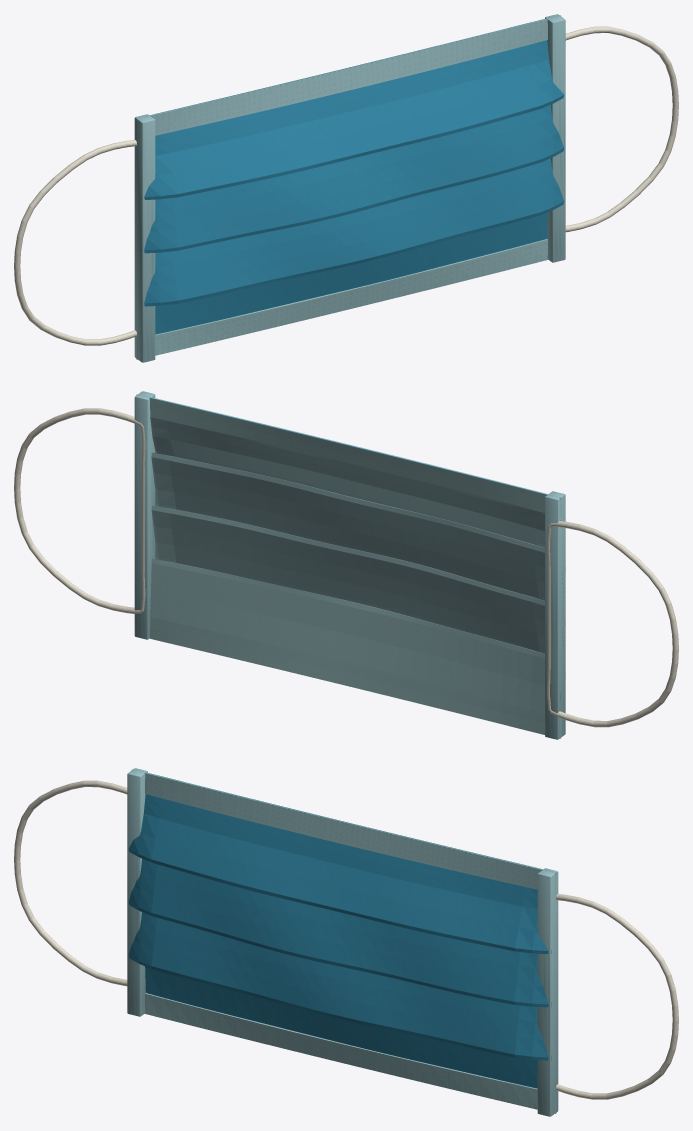
The model's file is pleated_face_mask_LOD1.glb.
3 renders of one model, top to bottom at view 1: azimuth 30°, elevation 25°; view 2: azimuth 150°, elevation 25°; view 3: azimuth 330°, elevation 25°, orthographic.
Parts seen in each view (by area): view 1: Pleated_panel, Top_nose_band, Bottom_hem, Left_side_weld, Right_side_weld, Left_ear_loop, Right_ear_loop; view 2: Pleated_panel, Left_side_weld, Right_side_weld, Left_ear_loop, Right_ear_loop, Top_nose_band; view 3: Pleated_panel, Top_nose_band, Bottom_hem, Right_side_weld, Left_side_weld, Right_ear_loop, Left_ear_loop.
Part boxes in pixels (box(x1,y1,x2,y2)): Pleated_panel: box(136, 15, 564, 358); Top_nose_band: box(136, 15, 560, 139); Bottom_hem: box(136, 239, 547, 359); Left_side_weld: box(134, 114, 155, 362); Right_side_weld: box(545, 14, 565, 262); Left_ear_loop: box(14, 140, 136, 345); Right_ear_loop: box(565, 26, 678, 232); Pleated_panel: box(136, 394, 565, 738); Left_side_weld: box(545, 491, 565, 739); Right_side_weld: box(134, 391, 155, 639); Left_ear_loop: box(547, 521, 678, 727); Right_ear_loop: box(14, 408, 145, 613); Top_nose_band: box(137, 394, 561, 517); Pleated_panel: box(128, 772, 556, 1112); Top_nose_band: box(132, 769, 556, 893); Bottom_hem: box(145, 993, 556, 1113); Right_side_weld: box(537, 868, 558, 1116); Left_side_weld: box(127, 768, 147, 1016); Right_ear_loop: box(556, 894, 678, 1099); Left_ear_loop: box(14, 780, 127, 986).
Size of the model in its own units: 0.2743 by 0.0951 by 0.0146.
4 materials, 4 textured.
